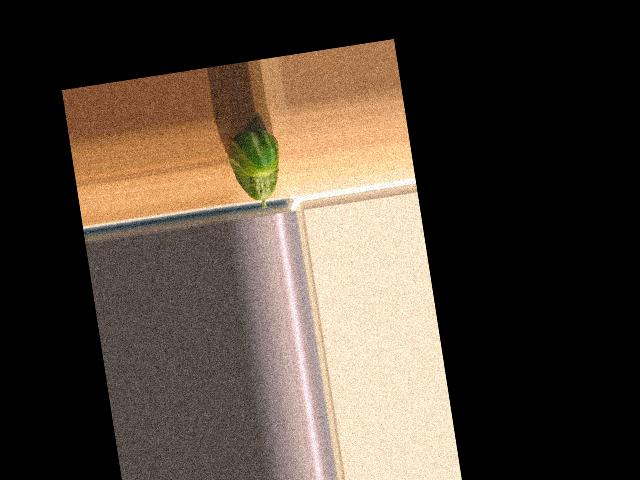cucumber: (225, 127, 288, 213)
